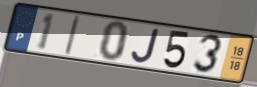0: (96, 19, 131, 63)
1: (37, 12, 56, 51)
3: (191, 34, 226, 76)
5: (162, 30, 191, 70)
I: (62, 14, 82, 57)
J: (130, 28, 161, 65)
